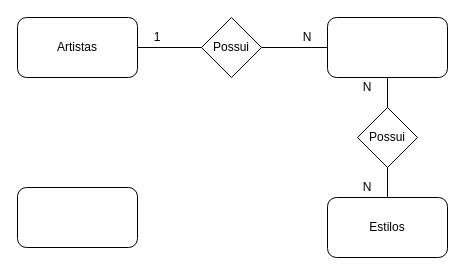
Image size: 465x275. Some labels were removed from this diagram. Here are the shapes that lost their labels. From the top down, the centre of each, then its label:
At (387,47): "Álbuns".
At (77,217): "Usuários".
